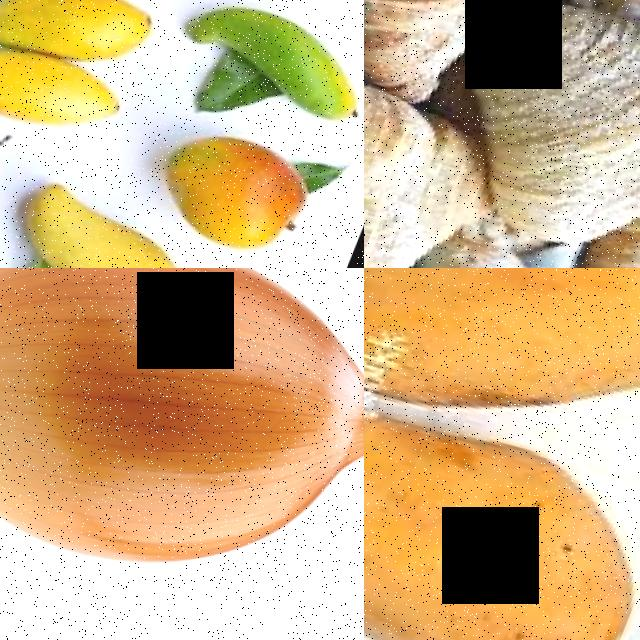mango: (364, 355, 640, 640), (364, 268, 640, 505), (141, 113, 342, 268), (174, 0, 364, 140), (0, 182, 235, 268), (0, 25, 144, 159), (0, 0, 178, 93)
onion: (0, 268, 364, 640)
